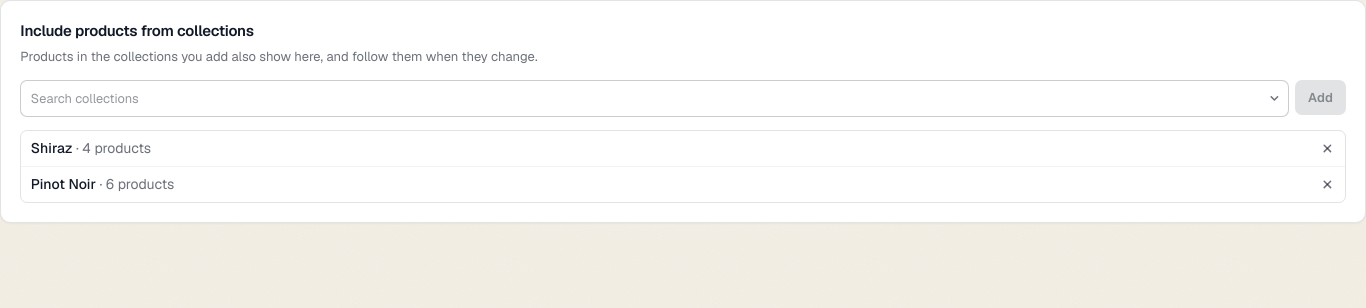
Scenario: IncludeCollectionsPicker › removes an added collection with its ×
Click the button named "Remove Shiraz". click: [1327, 148]
box: 1314,136 -> 1340,161
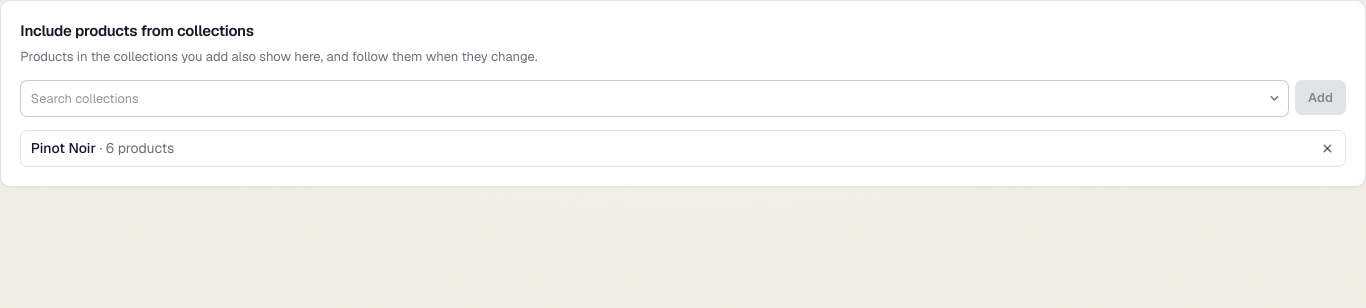
Focus the dropdown. click: [655, 98]
box: 20,80 -> 1289,117
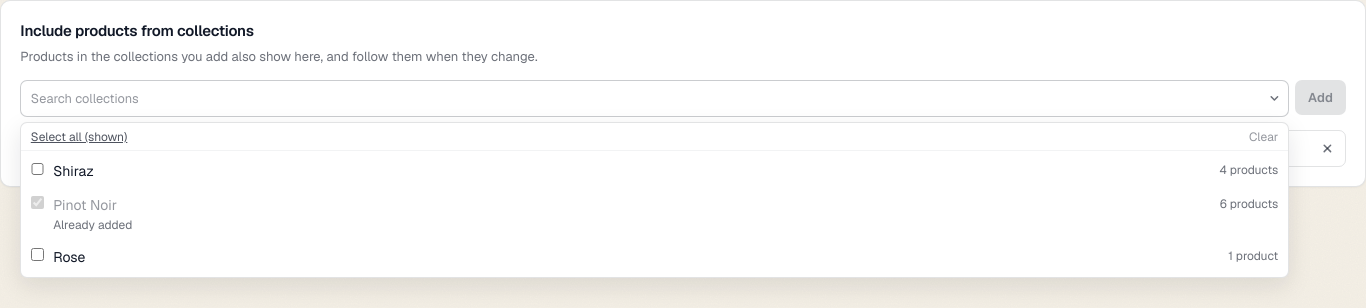
Expected: the checkbox labelled "Shiraz 4 products" is enabled, 31,162 -> 44,175
